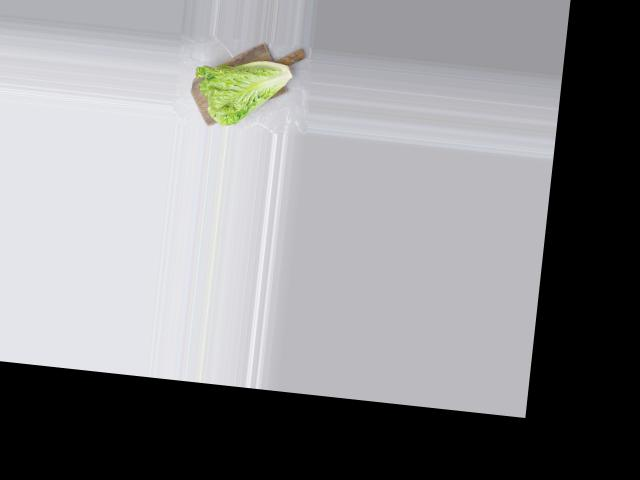lettuce: (190, 43, 298, 132)
